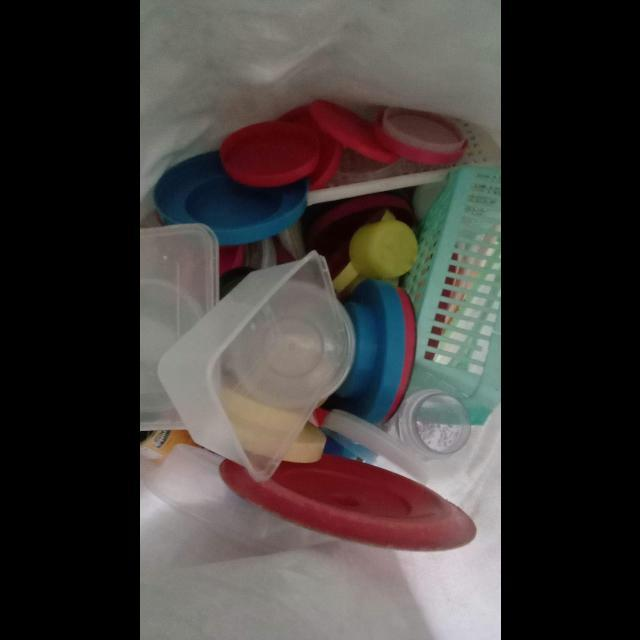aluminum: (139, 430, 201, 464)
plastic_container: (156, 252, 355, 482), (139, 223, 219, 432), (147, 444, 273, 548), (390, 391, 471, 458)
